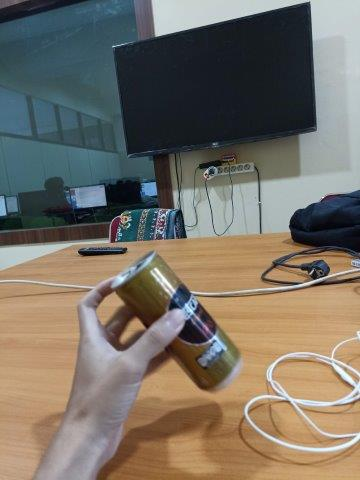kaleng: (110, 250, 242, 392)
